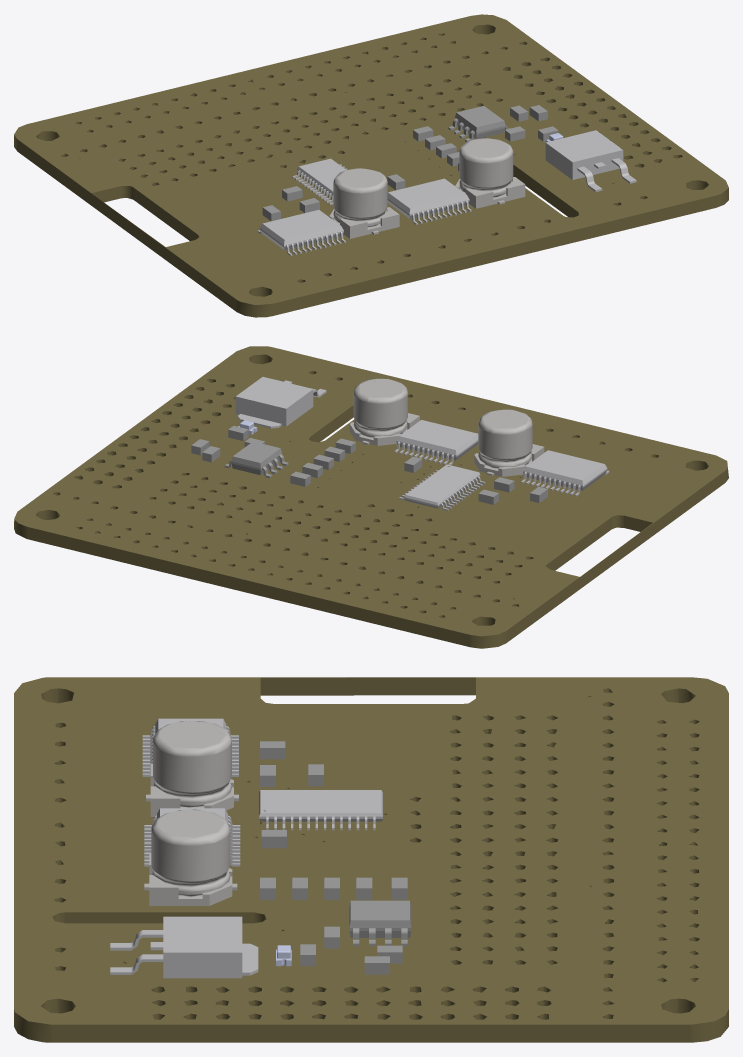
Rendered from ada-2348.glb.
3 views of the same model, one above another, from view 1: azimuth 30°, elevation 25°; view 2: azimuth 150°, elevation 25°; view 3: azimuth 270°, elevation 25° (orthographic). The views are drawn at different scales.
Visible parts, largest first — view 1: 0.16666666666666666_0.16666666666666666_0.08333333333333333_, 0.5833333333333334_0.5833333333333334_0.5833333333333334_0.8, 0.5_0.5_0.5_0.85, 0.3333333333333333_0.3333333333333333_0.3333333333333333_0; view 2: 0.16666666666666666_0.16666666666666666_0.08333333333333333_, 0.5833333333333334_0.5833333333333334_0.5833333333333334_0.8, 0.5_0.5_0.5_0.85, 0.3333333333333333_0.3333333333333333_0.3333333333333333_0; view 3: 0.16666666666666666_0.16666666666666666_0.08333333333333333_, 0.5_0.5_0.5_0.85, 0.5833333333333334_0.5833333333333334_0.5833333333333334_0.8, 0.3333333333333333_0.3333333333333333_0.3333333333333333_0.
Part boxes in pixels (x1,y1,x2,y2): 0.16666666666666666_0.16666666666666666_0.08333333333333333_: (14, 14, 728, 317); 0.5833333333333334_0.5833333333333334_0.5833333333333334_0.8: (257, 130, 636, 255); 0.5_0.5_0.5_0.85: (329, 138, 525, 238); 0.3333333333333333_0.3333333333333333_0.3333333333333333_0: (262, 105, 558, 221); 0.16666666666666666_0.16666666666666666_0.08333333333333333_: (14, 346, 728, 648); 0.5833333333333334_0.5833333333333334_0.5833333333333334_0.8: (235, 377, 609, 510); 0.5_0.5_0.5_0.85: (349, 378, 544, 476); 0.3333333333333333_0.3333333333333333_0.3333333333333333_0: (191, 425, 547, 504); 0.16666666666666666_0.16666666666666666_0.08333333333333333_: (14, 677, 728, 1042); 0.5_0.5_0.5_0.85: (144, 720, 238, 905); 0.5833333333333334_0.5833333333333334_0.5833333333333334_0.8: (110, 718, 382, 978); 0.3333333333333333_0.3333333333333333_0.3333333333333333_0: (260, 741, 411, 974).
Size of the model in its own units: 6.5 by 0.7211 by 5.65.
